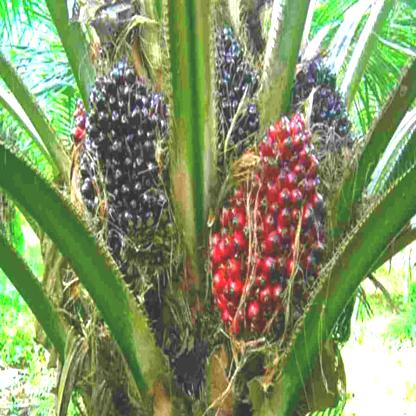1: (206, 114, 326, 345)
palm-oil: (78, 71, 184, 276), (206, 22, 262, 143), (291, 52, 361, 140)
